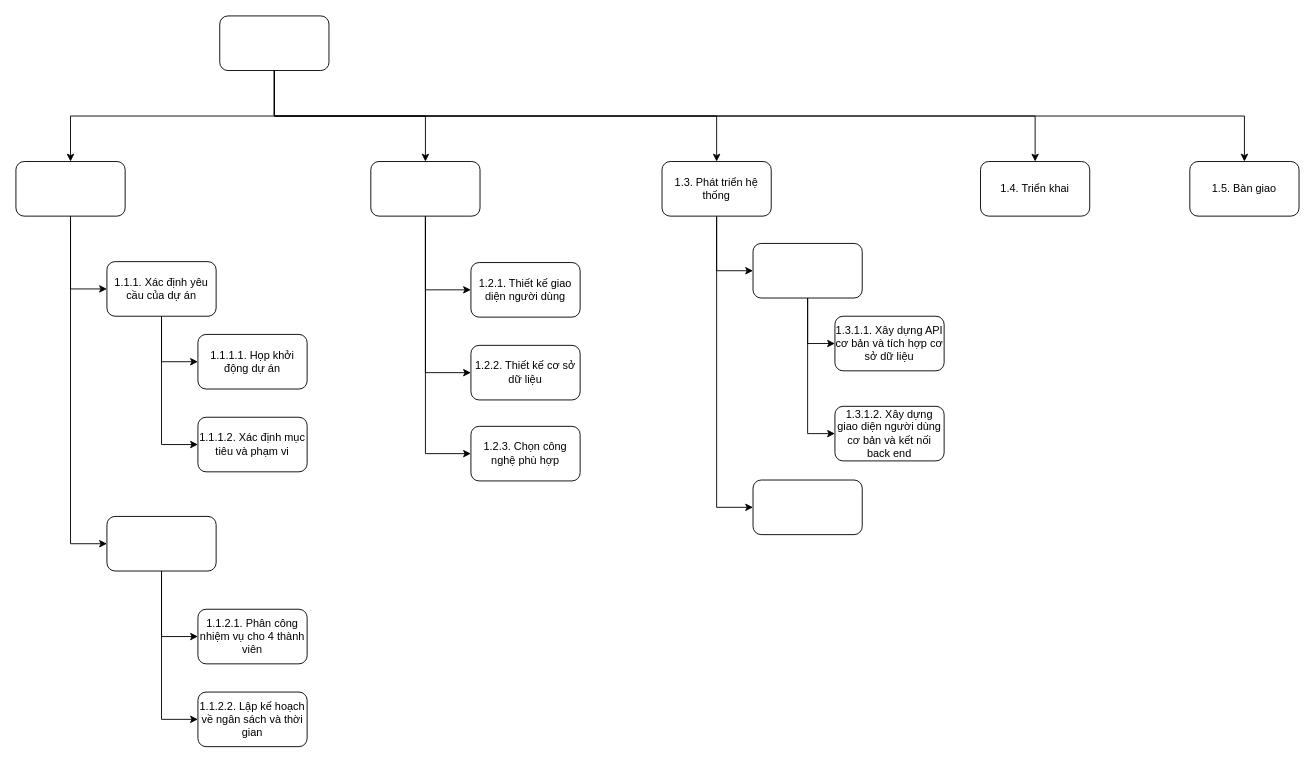
Some shapes in this 1315 by 763 pixel diagram are drawn without their labels. The box of each missing label's shape, as (x1, y1, x2, y2) in pixels:
1. Dự án phần mềm quản lý thư viện: (219, 15, 329, 71)
1.1. Khởi động dự án: (15, 161, 125, 216)
1.1.2. Xác định kế hoạch và nguồn lực: (106, 516, 216, 571)
1.2. Thiết kế hệ thống: (370, 161, 480, 216)
1.3.1. Phát triển back end và front end: (752, 243, 862, 298)
1.3.2. Kiểm thử cơ bản: (752, 479, 862, 535)
